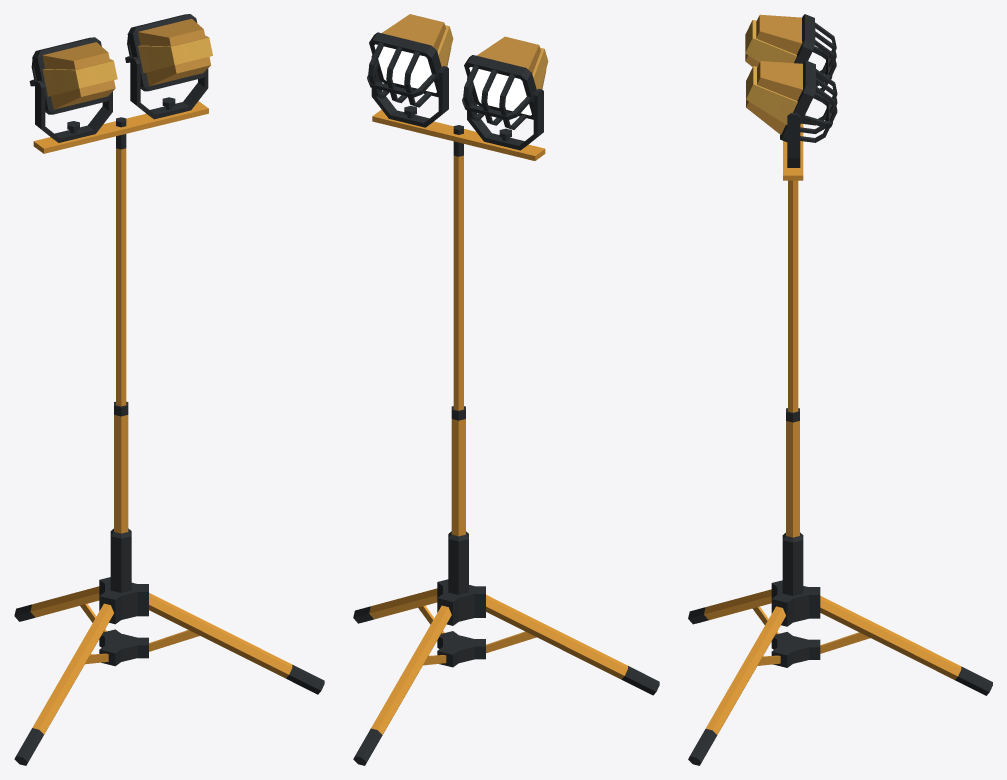
The model's file is RigLight.glb.
3 renders of one model, left to right at view 1: azimuth 30°, elevation 25°; view 2: azimuth 150°, elevation 25°; view 3: azimuth 270°, elevation 25°, orthographic.
Parts seen in each view (by area): view 1: SM_Prop_Floodlight_01.001, SM_Prop_Floodlight_01_Top_01.001, SM_Prop_Floodlight_01_Light_01.001, SM_Prop_Floodlight_01_Light_02.001; view 2: SM_Prop_Floodlight_01.001, SM_Prop_Floodlight_01_Top_01.001, SM_Prop_Floodlight_01_Light_01.001, SM_Prop_Floodlight_01_Light_02.001, LightSurfaceRight, LightSurfaceLeft; view 3: SM_Prop_Floodlight_01.001, SM_Prop_Floodlight_01_Light_01.001, SM_Prop_Floodlight_01_Light_02.001, SM_Prop_Floodlight_01_Top_01.001.
Boxes of the visible parts, bbox=[...] form: SM_Prop_Floodlight_01.001: bbox=[14, 401, 324, 765]; SM_Prop_Floodlight_01_Top_01.001: bbox=[33, 57, 208, 406]; SM_Prop_Floodlight_01_Light_01.001: bbox=[125, 14, 212, 91]; SM_Prop_Floodlight_01_Light_02.001: bbox=[29, 37, 117, 114]; SM_Prop_Floodlight_01.001: bbox=[353, 406, 659, 765]; SM_Prop_Floodlight_01_Top_01.001: bbox=[371, 55, 545, 410]; SM_Prop_Floodlight_01_Light_01.001: bbox=[367, 14, 453, 107]; SM_Prop_Floodlight_01_Light_02.001: bbox=[462, 36, 548, 129]; LightSurfaceRight: bbox=[374, 44, 436, 92]; LightSurfaceLeft: bbox=[469, 67, 531, 115]; SM_Prop_Floodlight_01.001: bbox=[688, 408, 992, 765]; SM_Prop_Floodlight_01_Light_01.001: bbox=[746, 60, 837, 142]; SM_Prop_Floodlight_01_Light_02.001: bbox=[745, 14, 836, 93]; SM_Prop_Floodlight_01_Top_01.001: bbox=[783, 113, 803, 412].
Bounding box in the file's own units: 1.82 × 3.72 × 1.59.
Materials: 3 (3 with a texture image).
